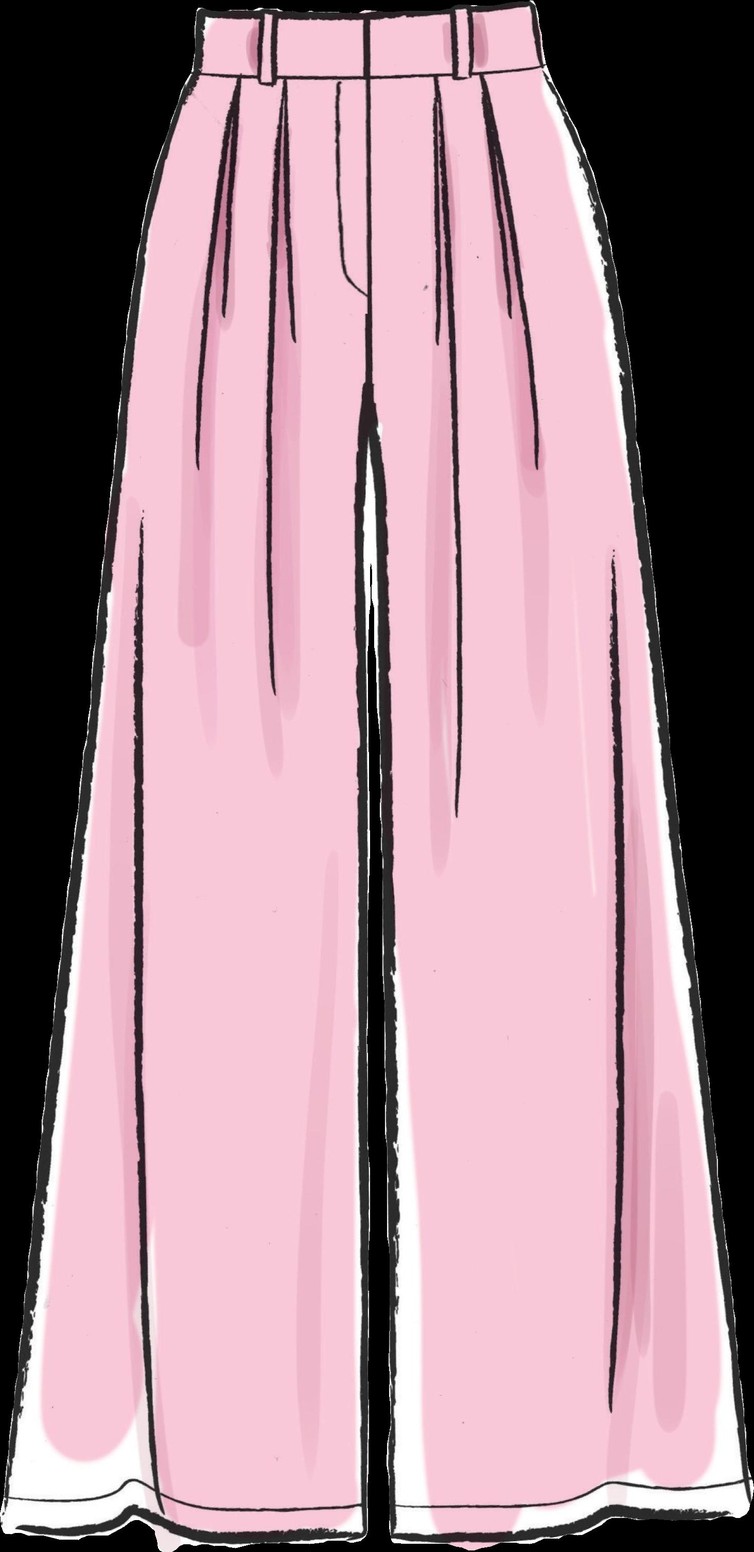Hemline: (386, 1494, 753, 1550), (0, 1507, 367, 1550)
Pantleg: (349, 2, 753, 1545), (0, 6, 371, 1550)
Waistline: (186, 47, 548, 91), (192, 0, 535, 33)
